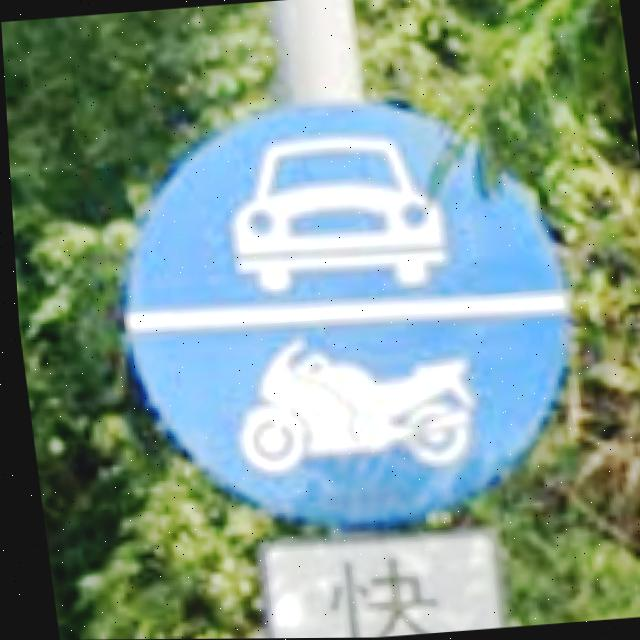carmotorcycle: (127, 103, 558, 524)
